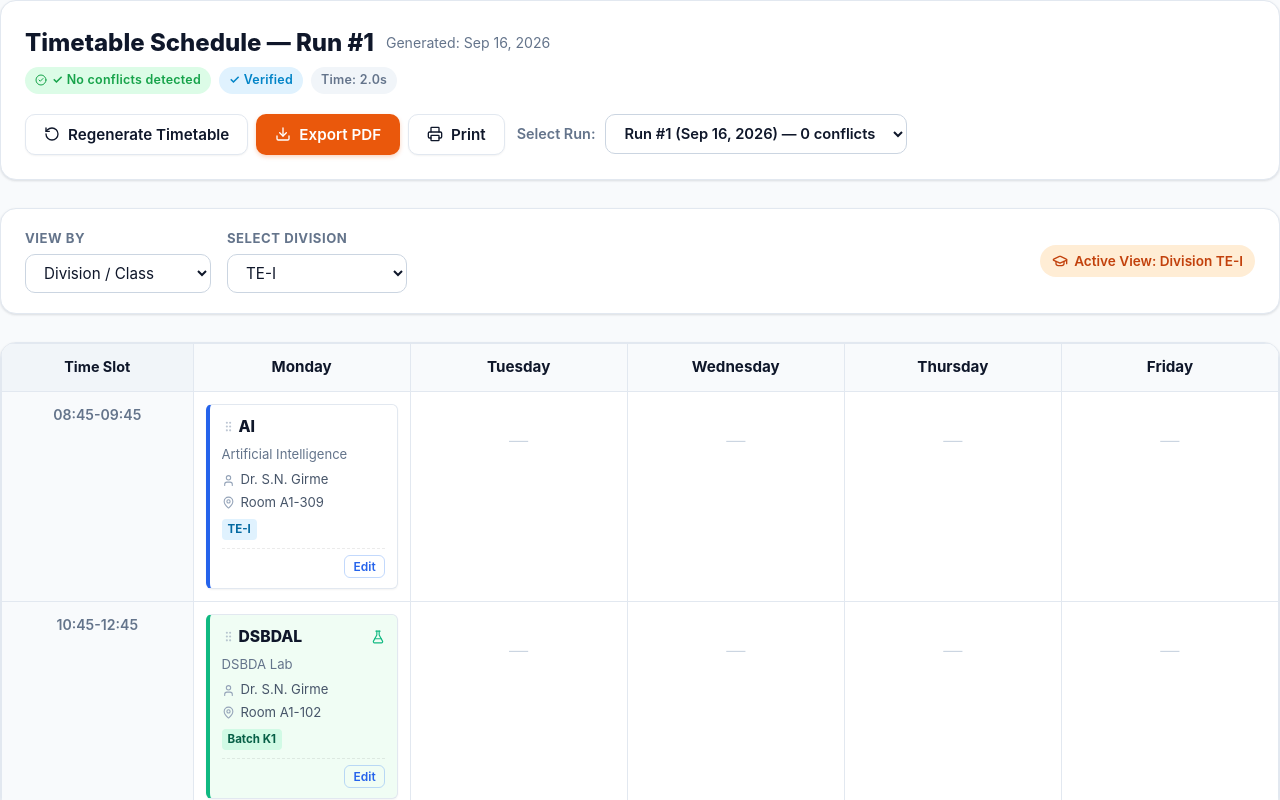
Scenario: Phase 6: Interactive Drag-and-Drop & Revision Highlighting › 9. Preserves existing Edit button on cards for accessible modal editing
This screenshot has width=1280, height=800.
Click the button with aria-label "edit AI entry". click: x=365, y=567
box: [344,555,385,578]
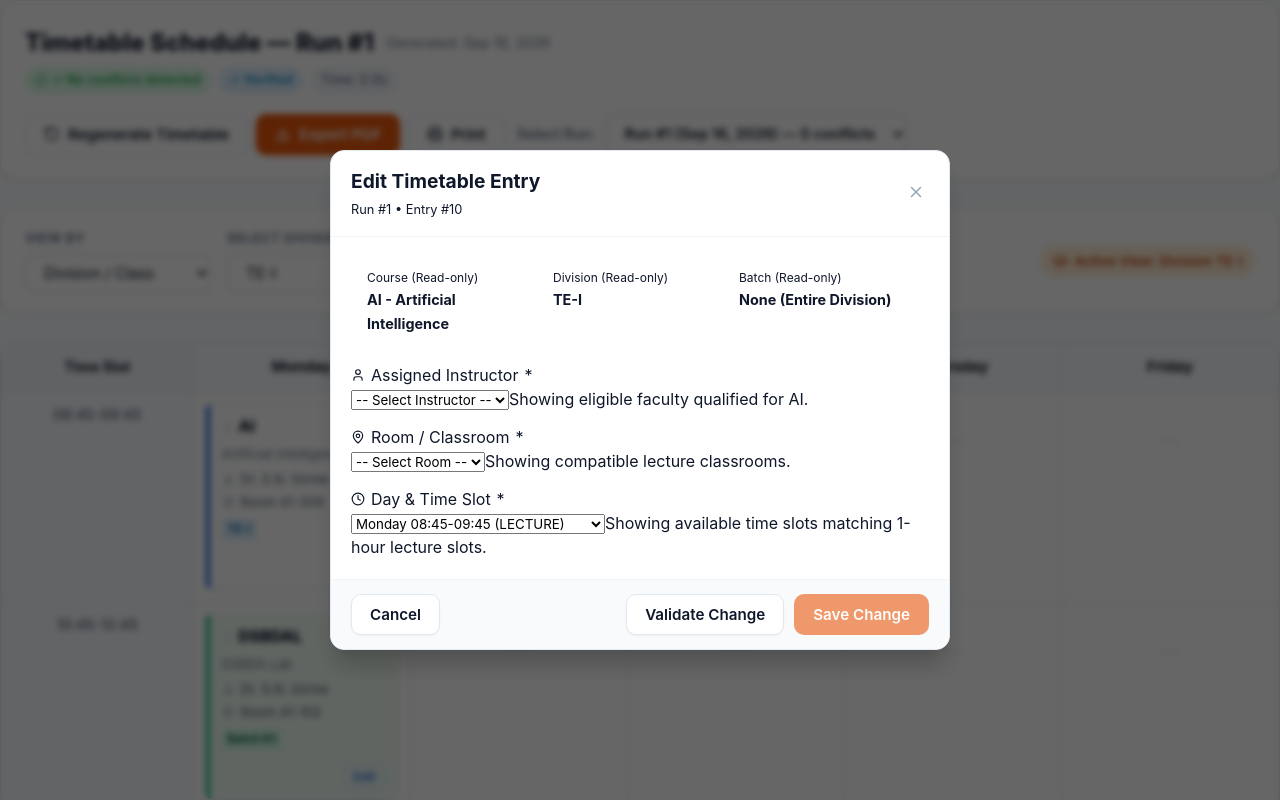
Now the heading "Edit Timetable Entry" is shown, box [351,167,540,196]
Now the button "Validate Change" is shown, box [626,594,784,635]
